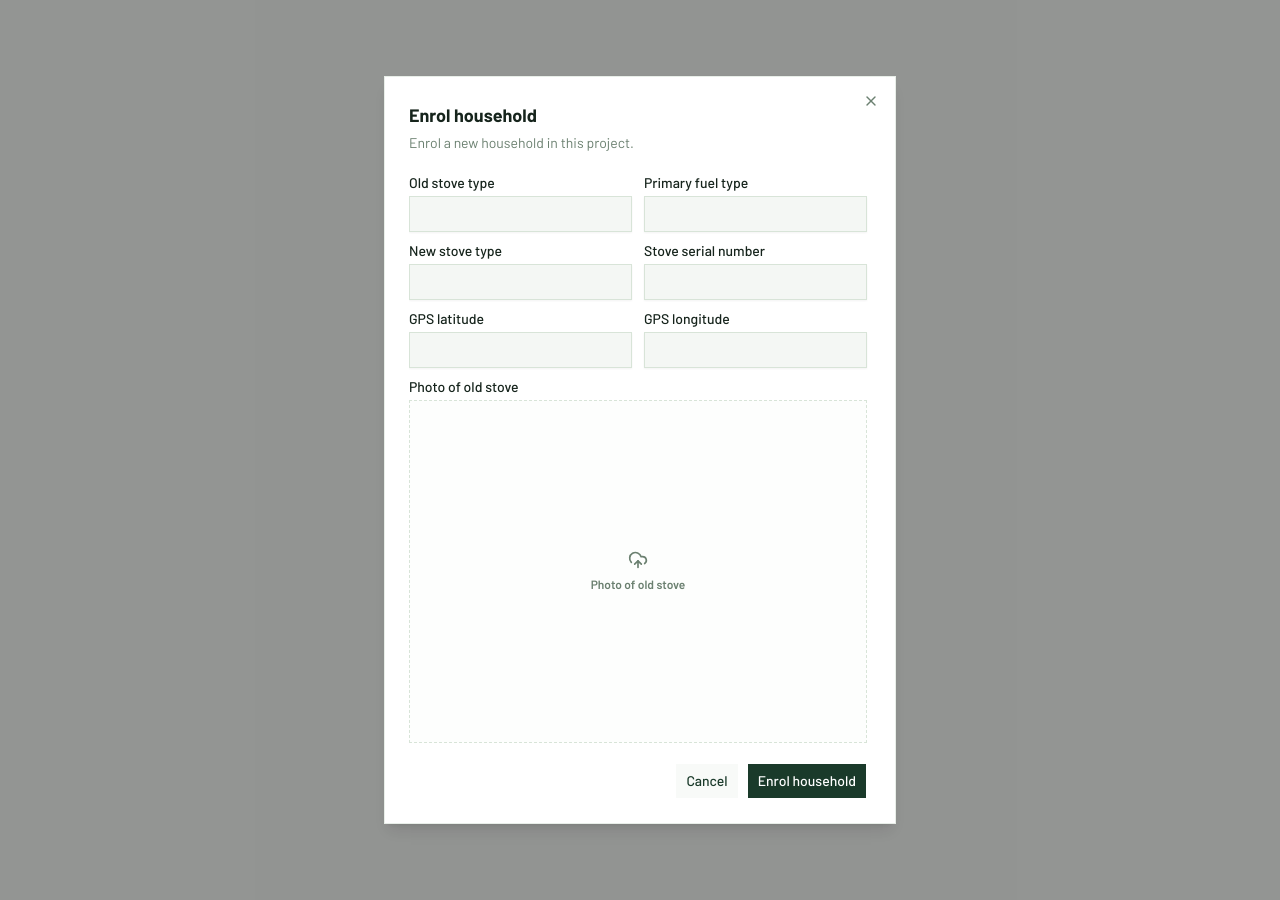
Test: CreateHouseholdDialog › shows validation errors when required fields are missing
(page scrolled)
Click the button "Enrol household": x=807, y=781 x1=747 y1=763 x2=867 y2=799
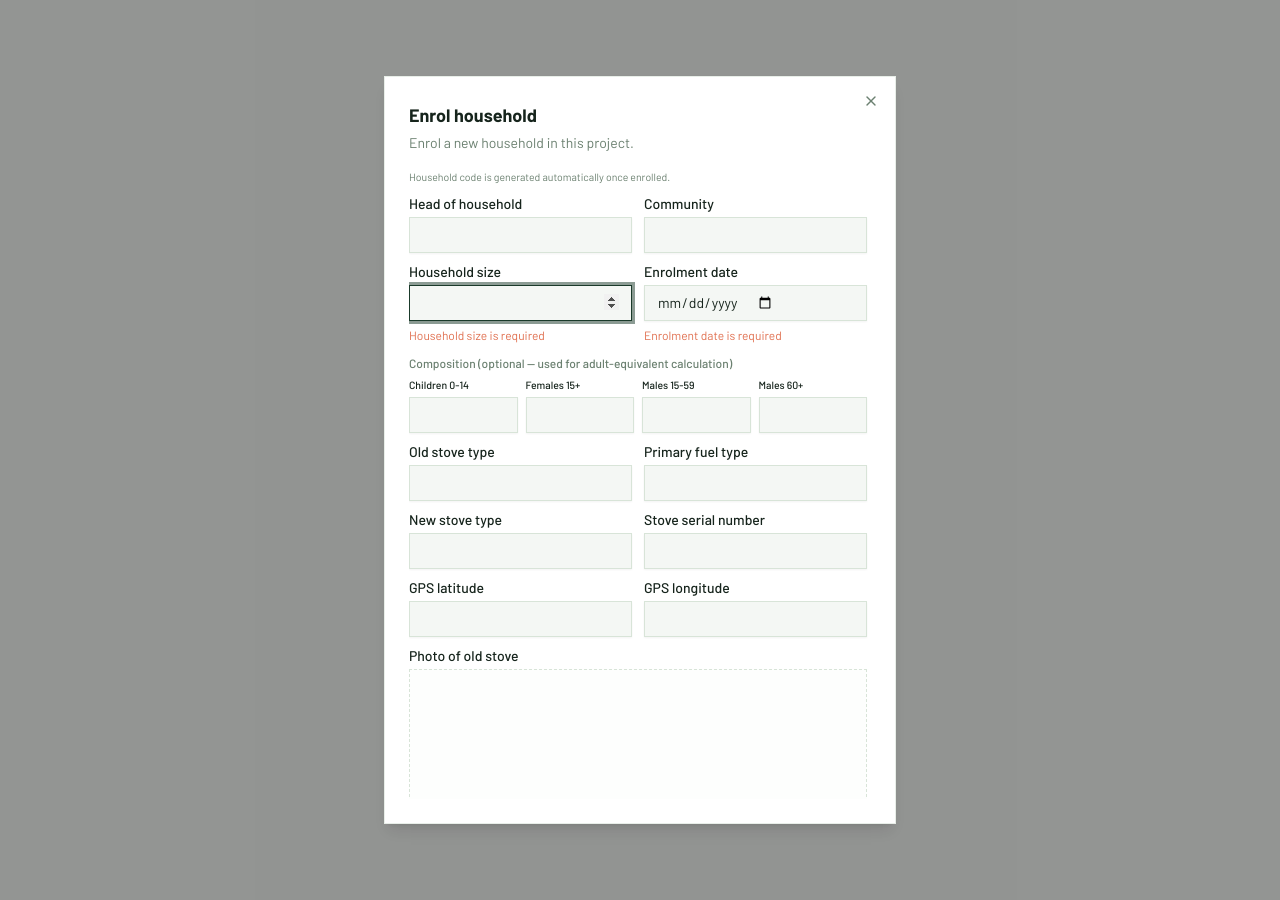
Check: the text "Household size is required" is shown, box x1=409 y1=328 x2=545 y2=342
